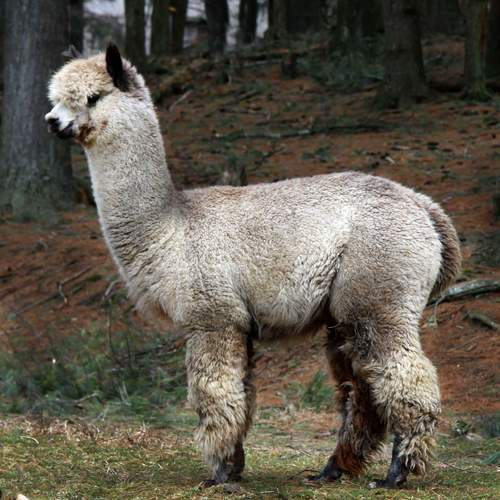alpaca: (42, 41, 462, 491)
